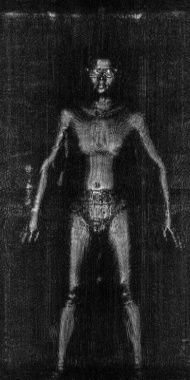gun: (20, 161, 38, 210)
